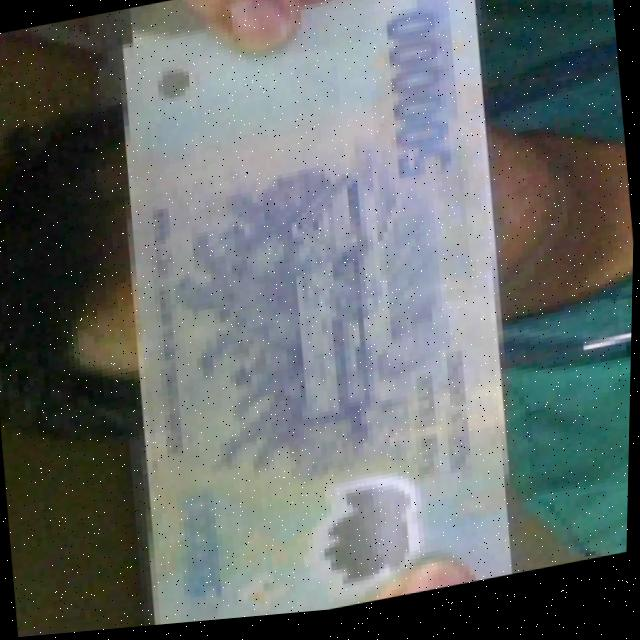500 000 VND: (84, 0, 541, 633)
